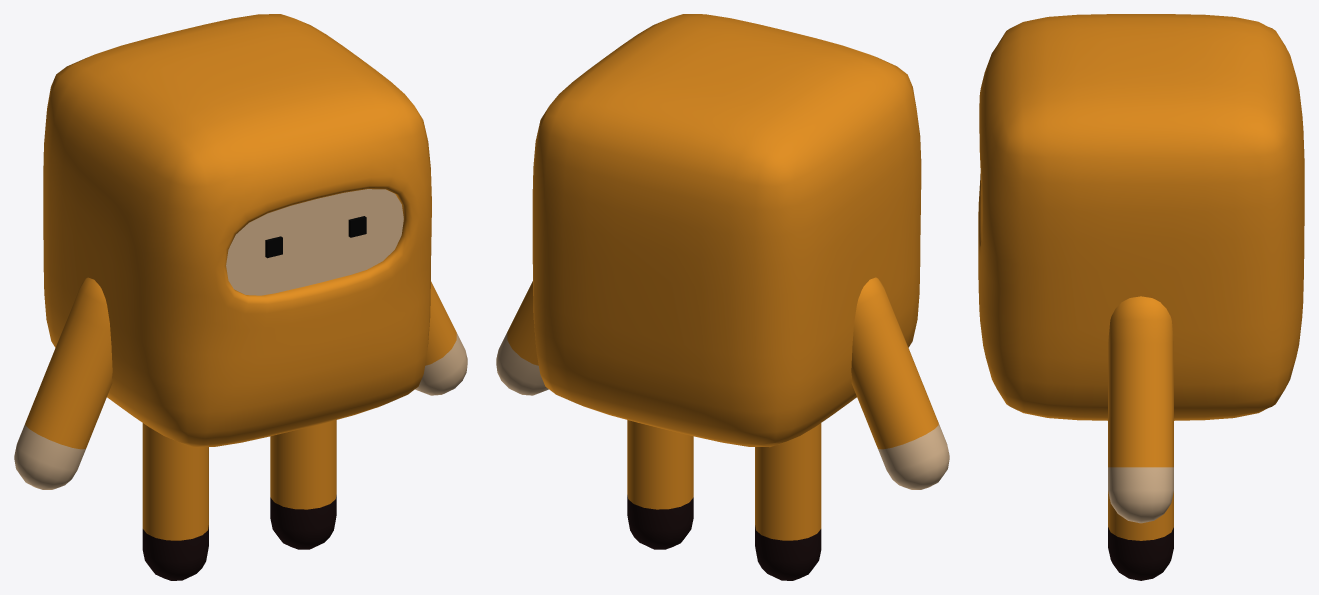
Rendered from Boxy.fbx.
3 views of the same model, side by side, from view 1: azimuth 30°, elevation 25°; view 2: azimuth 150°, elevation 25°; view 3: azimuth 270°, elevation 25° (orthographic).
Visible parts, largest first — view 1: Boxy; view 2: Boxy; view 3: Boxy.
Boxes of the visible parts, x1,y1,x2,y2 form: Boxy: (14, 14, 467, 580); Boxy: (496, 14, 949, 580); Boxy: (978, 14, 1304, 580).
Bounding box in the file's own units: 60.32 × 64.48 × 38.79.
